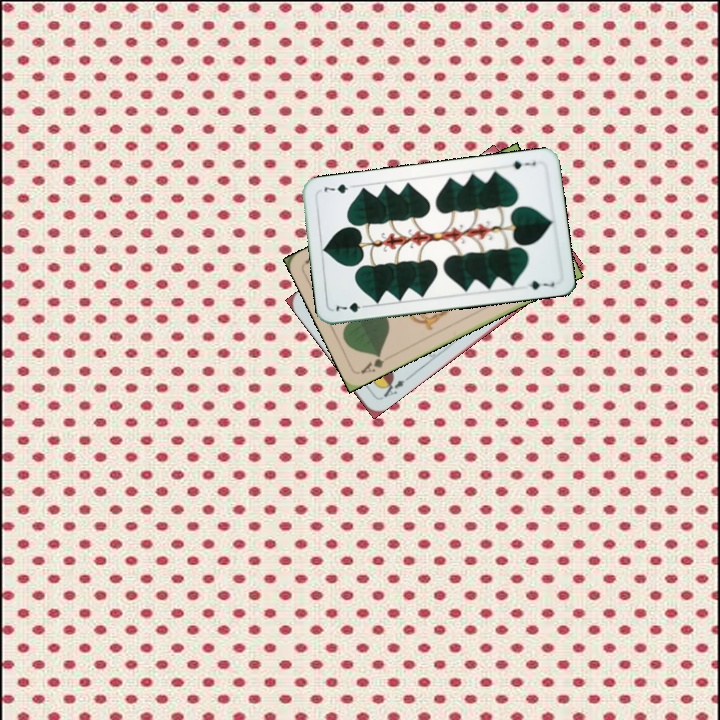EA: (376, 374, 407, 401)
G7: (331, 298, 371, 315), (508, 157, 538, 172)
GA: (356, 350, 387, 377)
